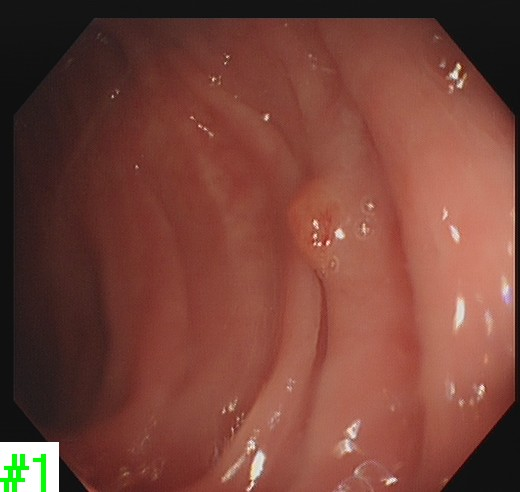adenoma: (282, 177, 348, 276)
